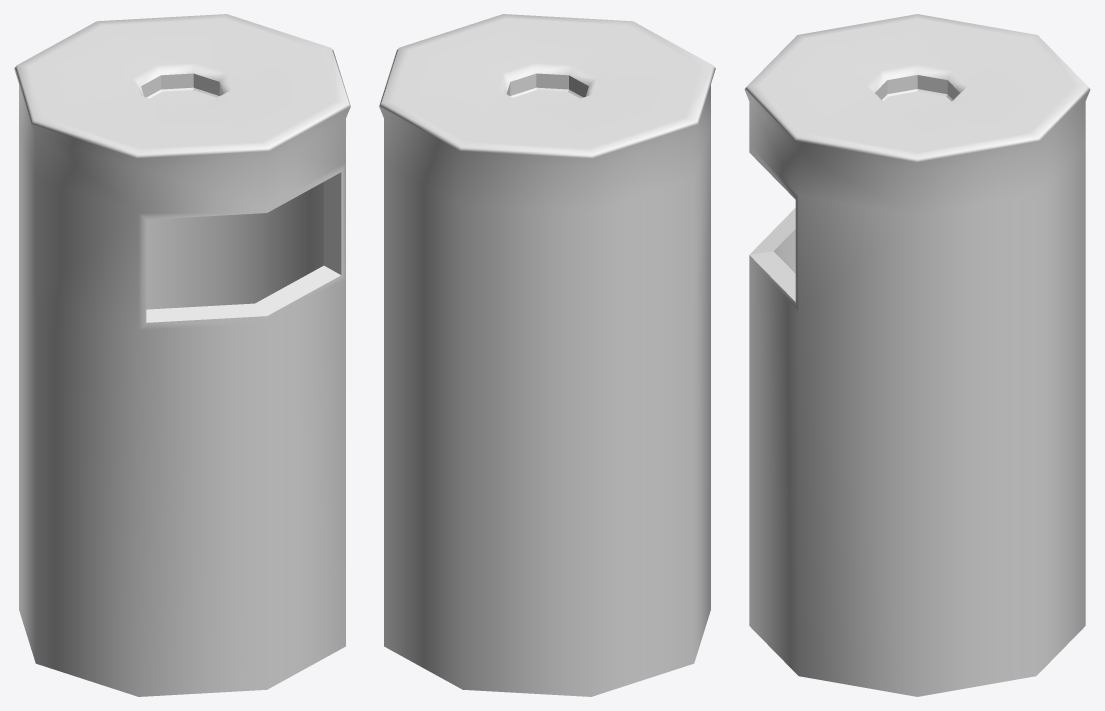
File: street_props_outside_urn_2.fbx
3 renders of one model, left to right at view 1: azimuth 30°, elevation 25°; view 2: azimuth 150°, elevation 25°; view 3: azimuth 270°, elevation 25°, orthographic.
Parts seen in each view (by area): view 1: urn_2; view 2: urn_2; view 3: urn_2.
Part boxes in pixels (x1,y1,x2,y2): urn_2: (14,14,350,696); urn_2: (379,14,715,696); urn_2: (744,14,1090,696).
Size of the model in its own units: 28.03 by 48.25 by 28.03.
